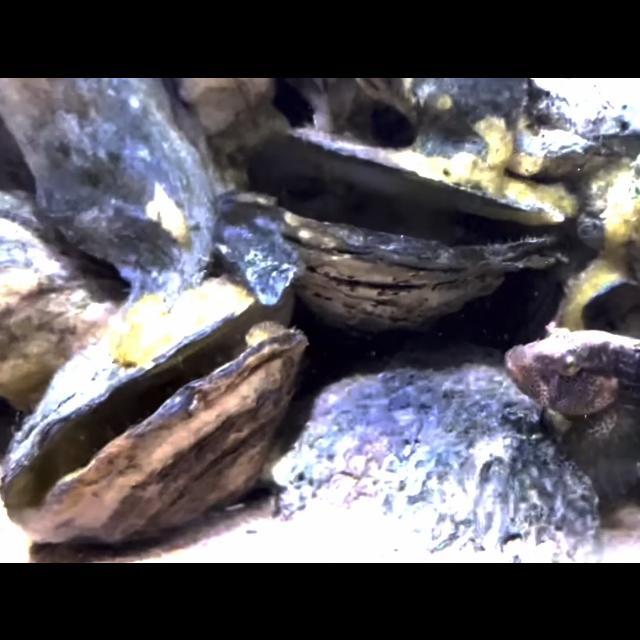Oyster-Closed: (1, 77, 218, 271), (0, 215, 108, 414)
Oyster-Open: (0, 278, 308, 542), (207, 126, 566, 330)
